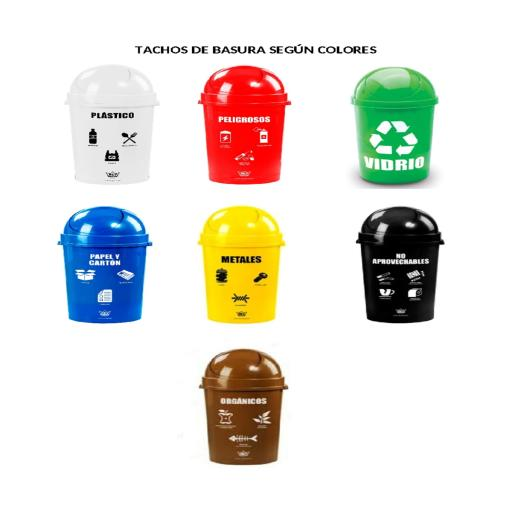Contenedor_Lleno: (79, 70, 136, 178)
